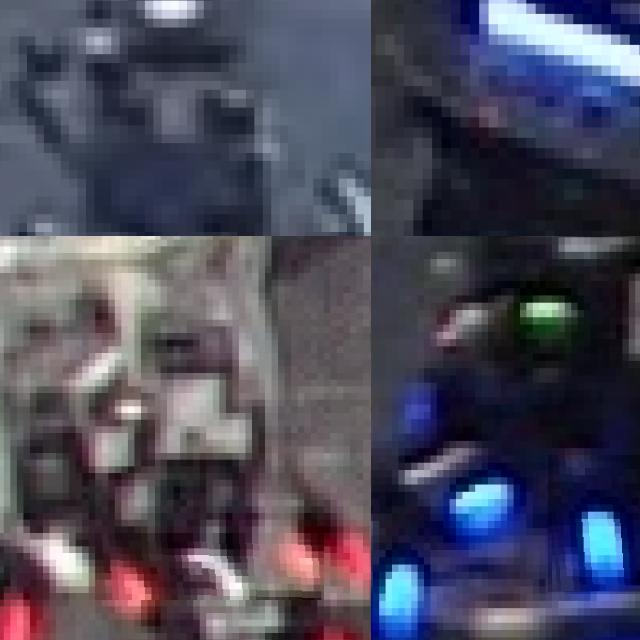B1: (371, 408, 517, 531), (548, 455, 640, 593), (371, 495, 436, 640)
R1: (95, 533, 324, 600), (0, 526, 42, 640)
